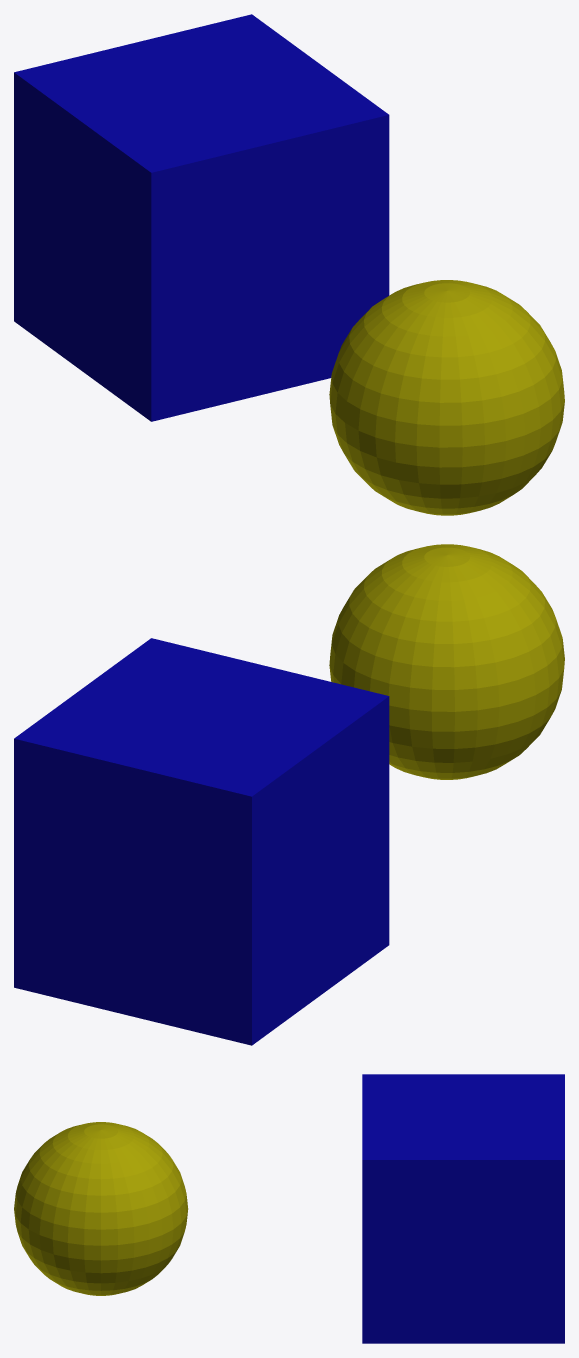
Rendered from twoobj.obj.
The picture shows the model from 3 angles, top to bottom: view 1: azimuth 30°, elevation 25°; view 2: azimuth 150°, elevation 25°; view 3: azimuth 270°, elevation 25°; orthographic projection. The views are drawn at different scales.
Visible parts, largest first — view 1: Cube, Sphere; view 2: Cube, Sphere; view 3: Cube, Sphere.
Part boxes in pixels (bbox=[...]): Cube: bbox=[14, 14, 389, 421]; Sphere: bbox=[329, 280, 564, 515]; Cube: bbox=[14, 638, 389, 1045]; Sphere: bbox=[329, 544, 564, 779]; Cube: bbox=[362, 1074, 564, 1343]; Sphere: bbox=[14, 1122, 188, 1295].
Size of the model in its own units: 2.6 by 2.6 by 7.06.
